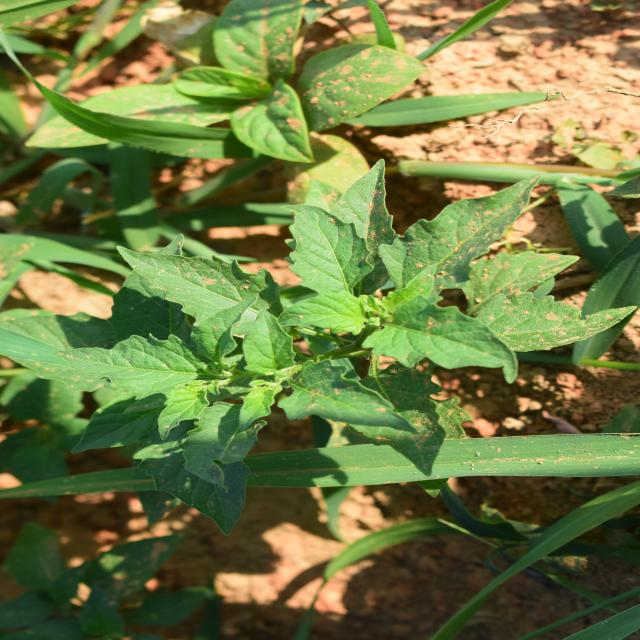Black_nightshade: (195, 54, 371, 376), (252, 283, 447, 562)
